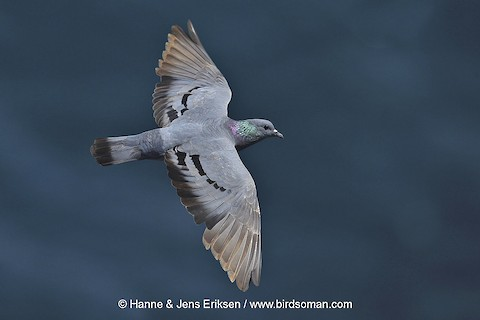pigeon: (86, 14, 292, 293)
